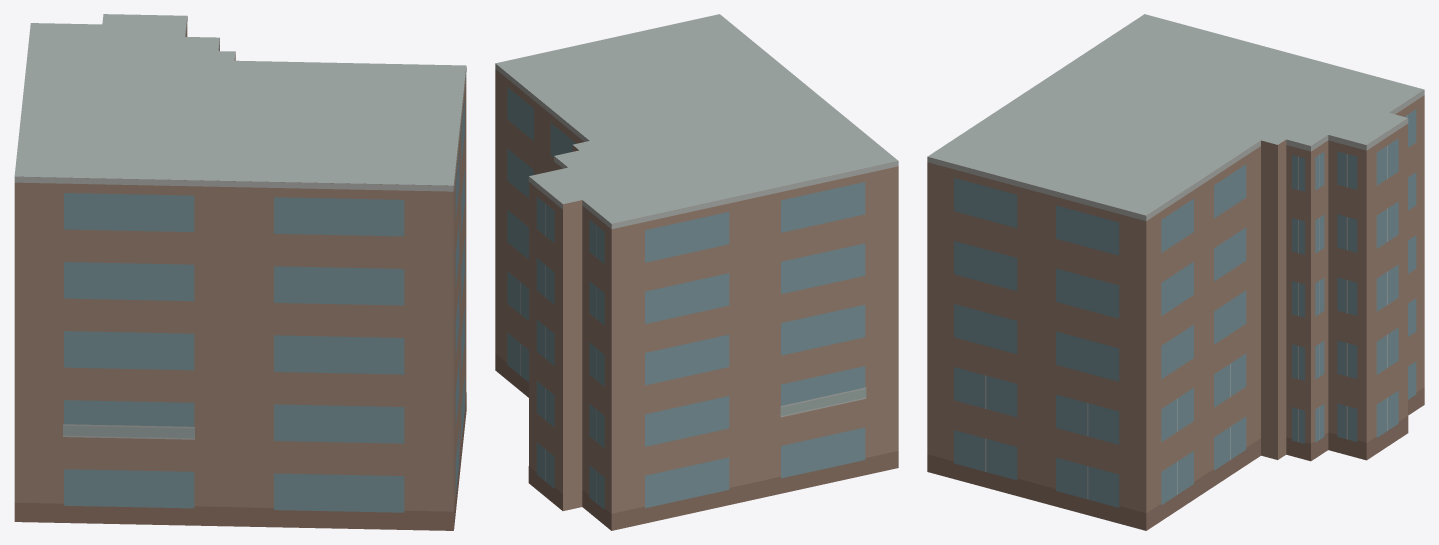
Rendered from survey-upis-33032654.glb.
3 renders of one model, left to right at view 1: azimuth 30°, elevation 25°; view 2: azimuth 150°, elevation 25°; view 3: azimuth 270°, elevation 25°, orthographic. The views are drawn at different scales.
Visible parts, largest first — view 1: survey-upis-33032654.tmp; view 2: survey-upis-33032654.tmp; view 3: survey-upis-33032654.tmp.
Part boxes in pixels (x1,y1,x2,y2): survey-upis-33032654.tmp: (14, 14, 466, 530); survey-upis-33032654.tmp: (495, 14, 898, 530); survey-upis-33032654.tmp: (927, 14, 1424, 530).
Size of the model in its own units: 19.15 by 13.95 by 19.96.
